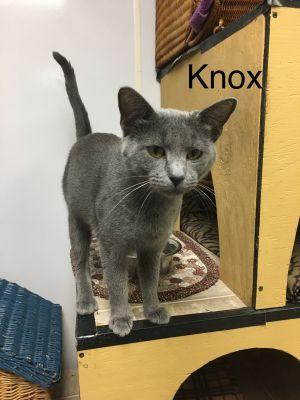rblue: (115, 85, 243, 210)
